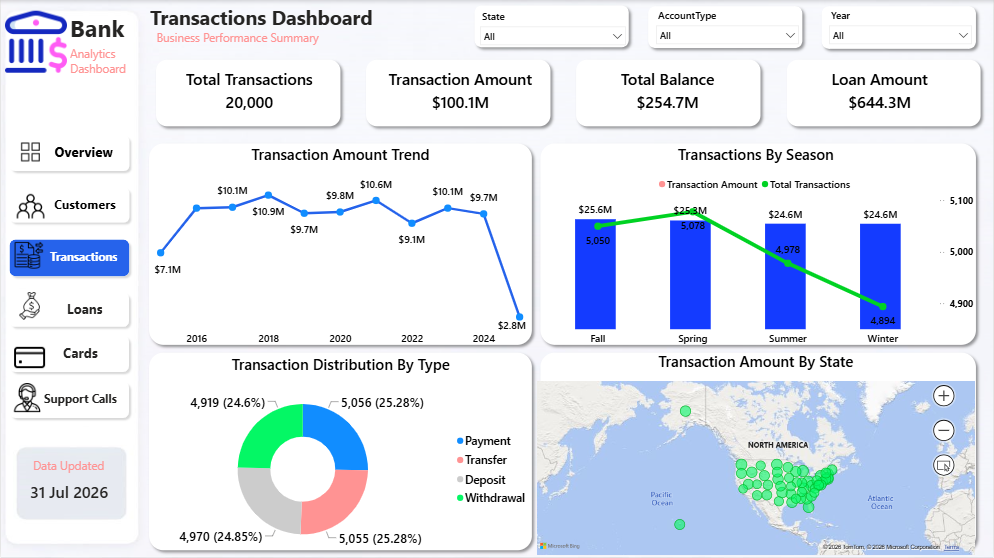

This screenshot's page, from the dashboard's own definition file:
{"tool":"powerbi","page":{"name":"Transactions","canvas":[1600,900],"ordinal":2},"visuals":[{"type":"cardVisual","fields":{"Data":["Calculation Overview.Total Transactions"]},"box":[248,85.9,304,118],"z":0},{"type":"shape","box":[6,534,207.3,73.4],"z":0,"group":"g6"},{"type":"cardVisual","fields":{"Data":["Calculation Overview.Total Balance"]},"box":[915.3,86,321.7,118.7],"z":1000},{"type":"image","box":[16,552.5,60,50],"z":1000,"group":"g6"},{"type":"cardVisual","fields":{"Data":["Calculation Overview.Amount Transactions"]},"box":[588.4,86,304,118],"z":2000},{"type":"cardVisual","fields":{"Data":["Calculation Overview.Loan Amount"]},"box":[1258,85.9,318,118],"z":3000},{"type":"lineClusteredColumnComboChart","title":"Transactions By Season","fields":{"Y":["Calculation Overview.Amount Transactions"],"Y2":["Calculation Overview.Total Transactions"],"Category":["Transactions.Season"]},"box":[860.2,232.3,715.7,333.8],"z":4000},{"type":"donutChart","title":"Transaction Distribution By Type","fields":{"Category":["Transactions.TransactionType"],"Y":["Calculation Overview.Total Transactions"]},"box":[235.7,571.2,624.5,328.6],"z":5000},{"type":"lineChart","title":"Transaction Amount Trend","fields":{"Y":["Calculation Overview.Amount Transactions"],"Category":["Calender.Date.Variation.Date Hierarchy.Year","Calender.Date.Variation.Date Hierarchy.Quarter","Calender.Date.Variation.Date Hierarchy.Month"]},"box":[236,232,624,334],"z":6000},{"type":"map","title":" Transaction Amount By State","fields":{"Category":["customers.State"],"Size":["Calculation Overview.Amount Transactions"]},"box":[860.2,566,715.7,333.8],"z":7000},{"type":"slicer","fields":{"Values":["Calender.Year"]},"box":[1326,8.8,250,72],"z":8000},{"type":"slicer","fields":{"Values":["Accounts.AccountType"]},"box":[1046,8.8,250,72],"z":9000},{"type":"slicer","fields":{"Values":["customers.State"]},"box":[762.9,9.7,254.8,69.4],"z":10000},{"type":"cardVisual","fields":{"Data":["Customer Service.Today"]},"box":[18,750,206,82],"z":11000},{"type":"group","id":"g1","title":"Group 1","box":[6,212,208,72],"z":12000},{"type":"group","id":"g2","title":"Group 1","box":[6,295.5,208,72],"z":13000},{"type":"group","id":"g3","title":"Group 1","box":[6,379,208,74],"z":14000},{"type":"group","id":"g4","title":"Group 1","box":[6,464.5,208,70],"z":15000},{"type":"group","id":"g5","title":"Group 1","box":[6,608,208,72],"z":16000},{"type":"image","box":[6,12,100,112],"z":17000},{"type":"textbox","box":[236,0,408,86],"z":18000},{"type":"textbox","box":[106,14,110,62],"z":19000},{"type":"textbox","box":[106,68,118,74],"z":20000},{"type":"textbox","box":[34,732,150,36],"z":21000},{"type":"group","id":"g6","title":"Group 2","box":[6,534,208,74],"z":22000},{"type":"shape","box":[6,212,208,72],"z":23000,"group":"g1"},{"type":"shape","box":[6,295.5,208,71.2],"z":23000,"group":"g2"},{"type":"shape","box":[6,379,207.8,73.9],"z":23000,"group":"g3"},{"type":"shape","box":[6,464.5,207.3,70],"z":23000,"group":"g4"},{"type":"shape","box":[6,608,207.3,73.4],"z":23000,"group":"g5"},{"type":"image","box":[19.9,223.6,53.5,44.8],"z":24000,"group":"g1"},{"type":"image","box":[23.1,309.8,46.9,45.6],"z":24000,"group":"g2"},{"type":"image","box":[19.9,388.3,48.8,46.2],"z":24000,"group":"g3"},{"type":"image","box":[18.5,470.9,52.4,44.9],"z":24000,"group":"g4"},{"type":"image","box":[17.8,618.2,49.5,47],"z":24000,"group":"g5"}]}

Visuals, with their boxes on the page's 1600x900 design canvas (x1, y1, x2, y2). These are canvas units, not pixel positions in the 994x558 screenshot, which may show the page scaled, cropped or inside an application window:
cardVisual - Calculation Overview.Total Transactions: [left=248, top=86, right=552, bottom=204]
shape: [left=6, top=534, right=213, bottom=607]
cardVisual - Calculation Overview.Total Balance: [left=915, top=86, right=1237, bottom=205]
image: [left=16, top=552, right=76, bottom=602]
cardVisual - Calculation Overview.Amount Transactions: [left=588, top=86, right=892, bottom=204]
cardVisual - Calculation Overview.Loan Amount: [left=1258, top=86, right=1576, bottom=204]
"Transactions By Season" lineClusteredColumnComboChart: [left=860, top=232, right=1576, bottom=566]
"Transaction Distribution By Type" donutChart: [left=236, top=571, right=860, bottom=900]
"Transaction Amount Trend" lineChart: [left=236, top=232, right=860, bottom=566]
" Transaction Amount By State" map: [left=860, top=566, right=1576, bottom=900]
slicer - Calender.Year: [left=1326, top=9, right=1576, bottom=81]
slicer - Accounts.AccountType: [left=1046, top=9, right=1296, bottom=81]
slicer - customers.State: [left=763, top=10, right=1018, bottom=79]
cardVisual - Customer Service.Today: [left=18, top=750, right=224, bottom=832]
"Group 1" group: [left=6, top=212, right=214, bottom=284]
"Group 1" group: [left=6, top=296, right=214, bottom=368]
"Group 1" group: [left=6, top=379, right=214, bottom=453]
"Group 1" group: [left=6, top=464, right=214, bottom=534]
"Group 1" group: [left=6, top=608, right=214, bottom=680]
image: [left=6, top=12, right=106, bottom=124]
textbox: [left=236, top=0, right=644, bottom=86]
textbox: [left=106, top=14, right=216, bottom=76]
textbox: [left=106, top=68, right=224, bottom=142]
textbox: [left=34, top=732, right=184, bottom=768]
"Group 2" group: [left=6, top=534, right=214, bottom=608]
shape: [left=6, top=212, right=214, bottom=284]
shape: [left=6, top=296, right=214, bottom=367]
shape: [left=6, top=379, right=214, bottom=453]
shape: [left=6, top=464, right=213, bottom=534]
shape: [left=6, top=608, right=213, bottom=681]
image: [left=20, top=224, right=73, bottom=268]
image: [left=23, top=310, right=70, bottom=355]
image: [left=20, top=388, right=69, bottom=434]
image: [left=18, top=471, right=71, bottom=516]
image: [left=18, top=618, right=67, bottom=665]
